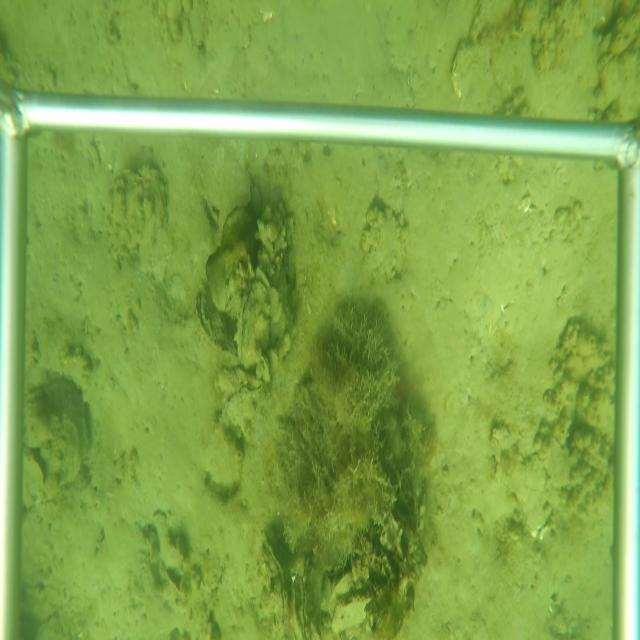Oyster-Closed: (233, 280, 272, 372), (190, 288, 232, 357), (259, 540, 288, 636)
Oyster-Indeterminate: (447, 38, 492, 99), (329, 595, 375, 638)
